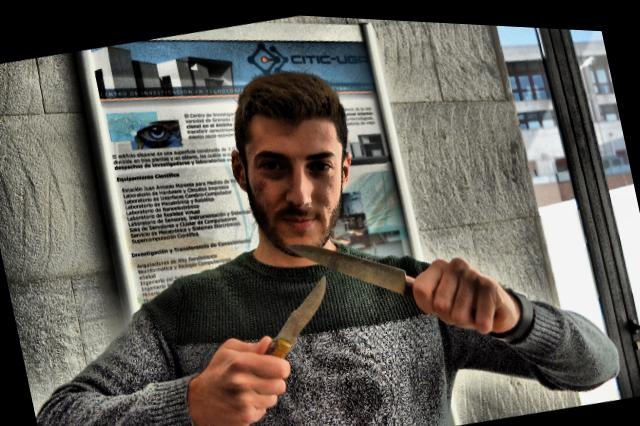knife: (282, 211, 423, 322), (244, 264, 344, 370)
